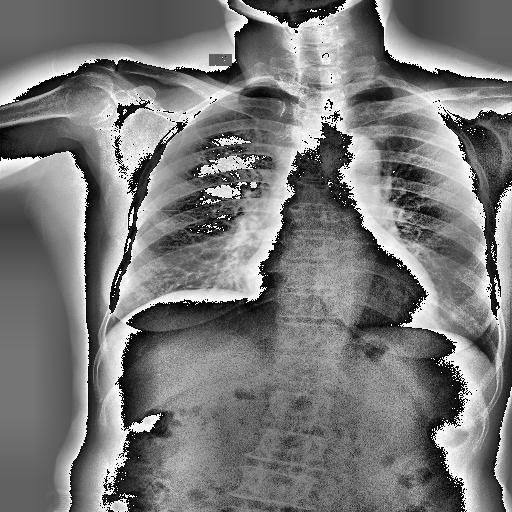0- Aortic enlargement: (323, 132, 382, 184), (324, 134, 380, 186), (325, 135, 381, 183)
3- Cardiomegaly: (244, 252, 440, 330)
